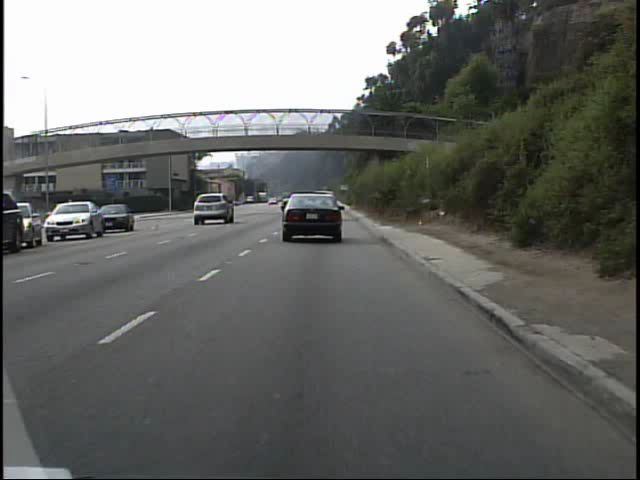car: (277, 190, 349, 245), (47, 197, 103, 243), (192, 192, 238, 227), (101, 201, 134, 230)
